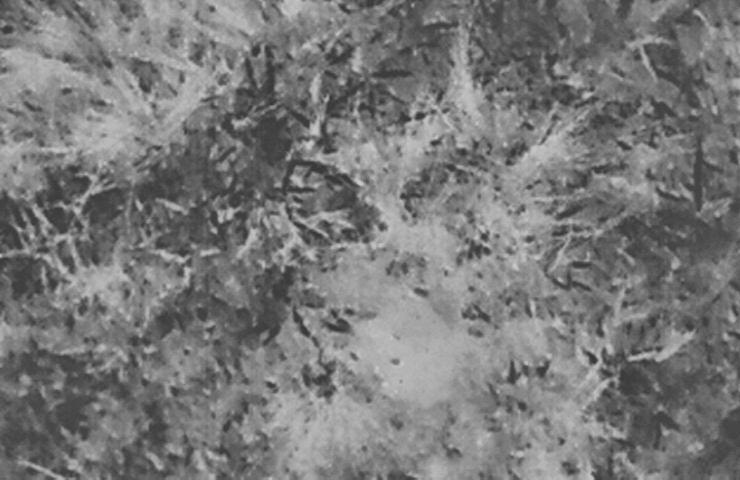landmines: (360, 294, 464, 412)
